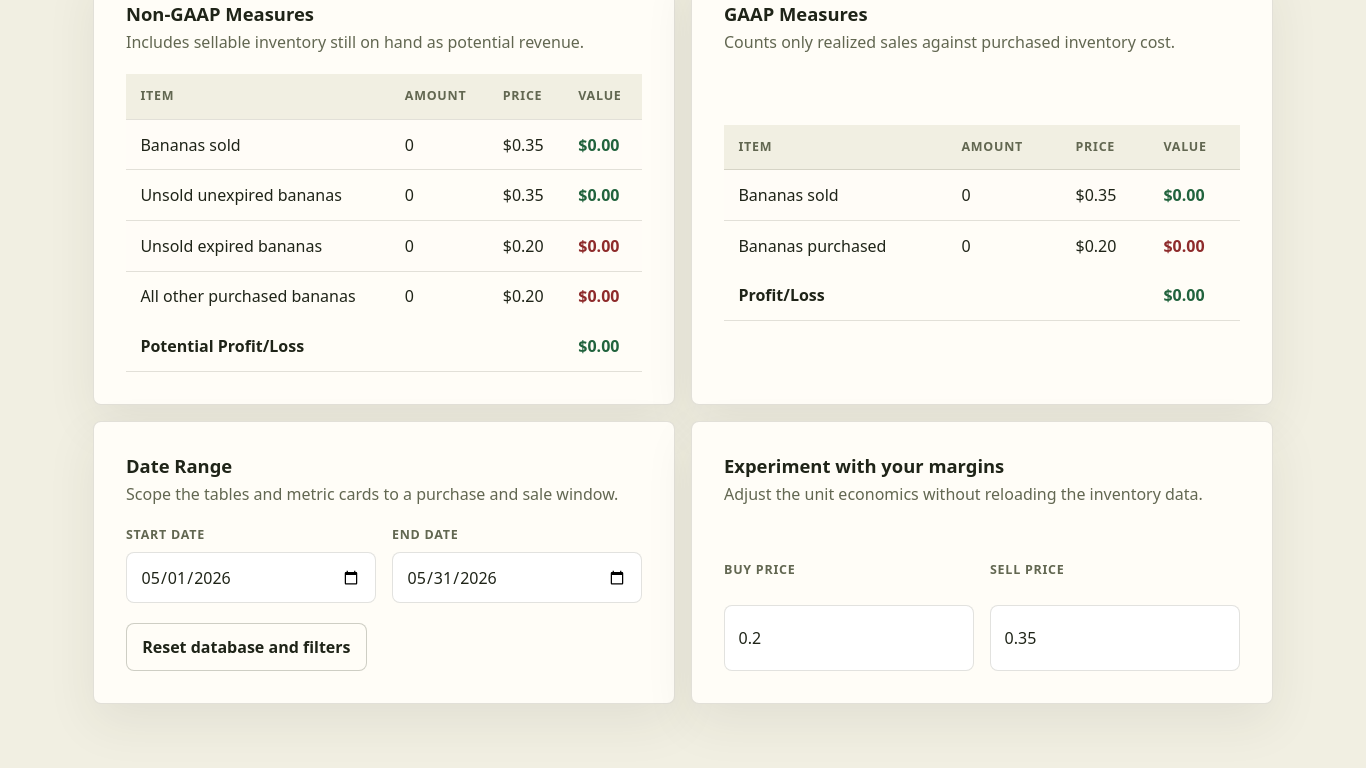
Test case: Analytics › resets the database and refreshes analytics data
(page scrolled)
Click the button "Reset database and filters" at (246, 647), box [126,623,367,671]
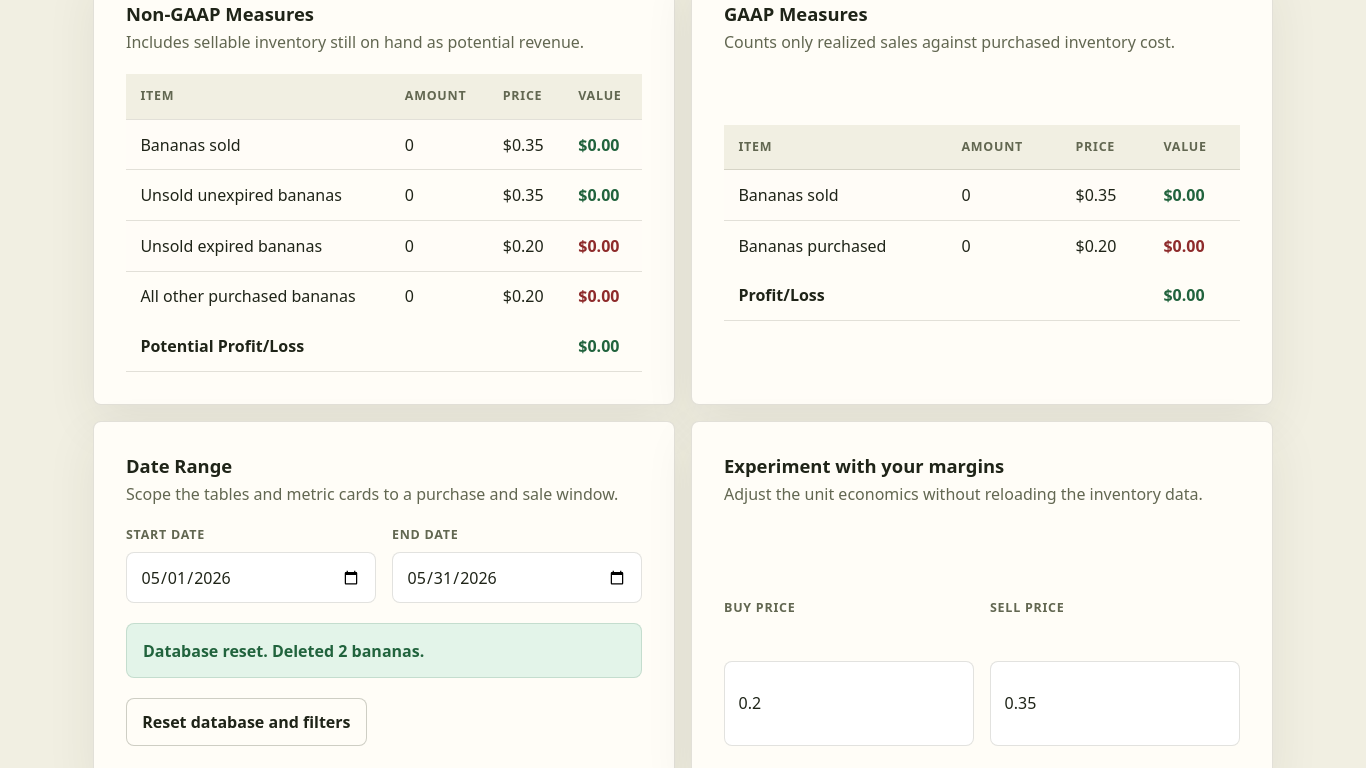
Expected: the text "Database reset. Deleted 2 bananas." is shown, [126,623,642,678]
